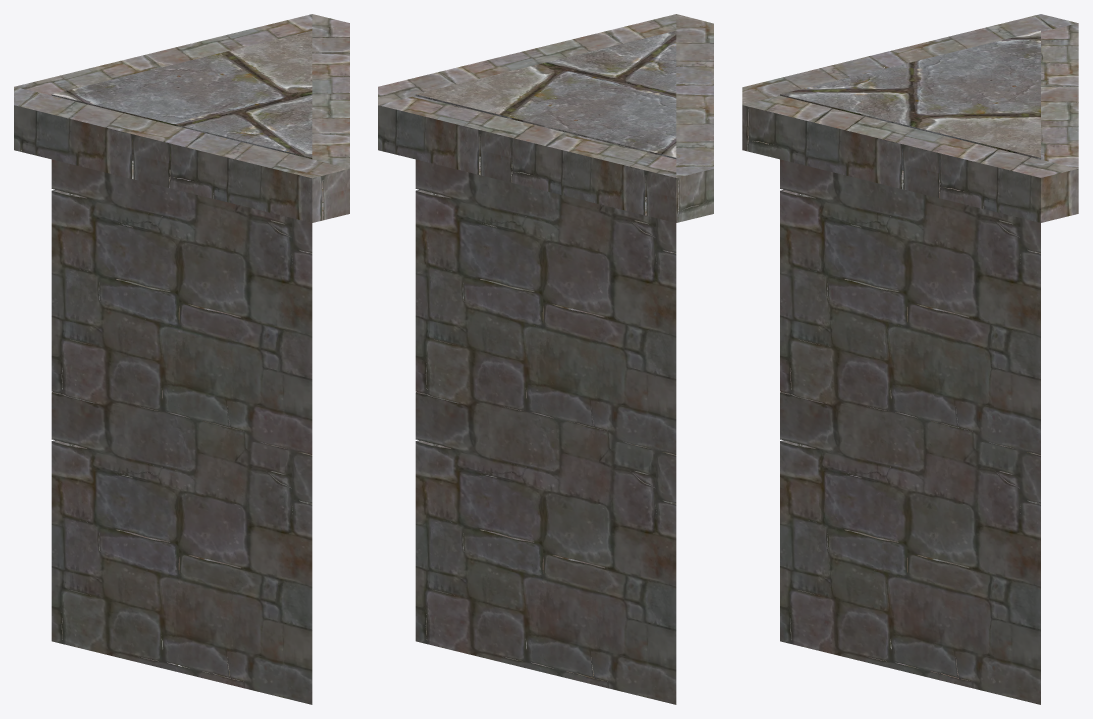
The picture shows the model from 3 angles, left to right: view 1: azimuth 30°, elevation 25°; view 2: azimuth 150°, elevation 25°; view 3: azimuth 270°, elevation 25°; orthographic projection.
Visible parts, largest first — view 1: SM_BB_T3_Foundation_Trangle_Med_LOD0; view 2: SM_BB_T3_Foundation_Trangle_Med_LOD0; view 3: SM_BB_T3_Foundation_Trangle_Med_LOD0.
Part boxes in pixels (x1,y1,x2,y2): SM_BB_T3_Foundation_Trangle_Med_LOD0: (14, 14, 349, 704); SM_BB_T3_Foundation_Trangle_Med_LOD0: (378, 14, 713, 704); SM_BB_T3_Foundation_Trangle_Med_LOD0: (742, 14, 1078, 704).
Size of the model in its own units: 1.93 by 3.01 by 1.67.
2 materials, 2 textured.
